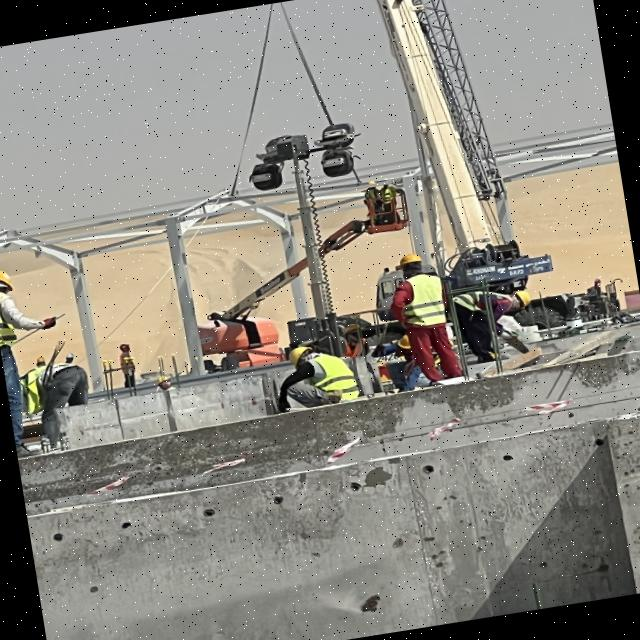Mobile Crane: (366, 0, 557, 303)
